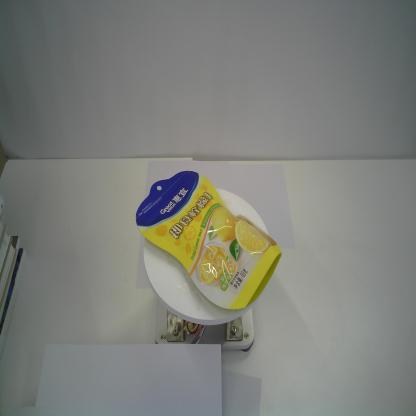Dried Fruit: (135, 170, 282, 310)
